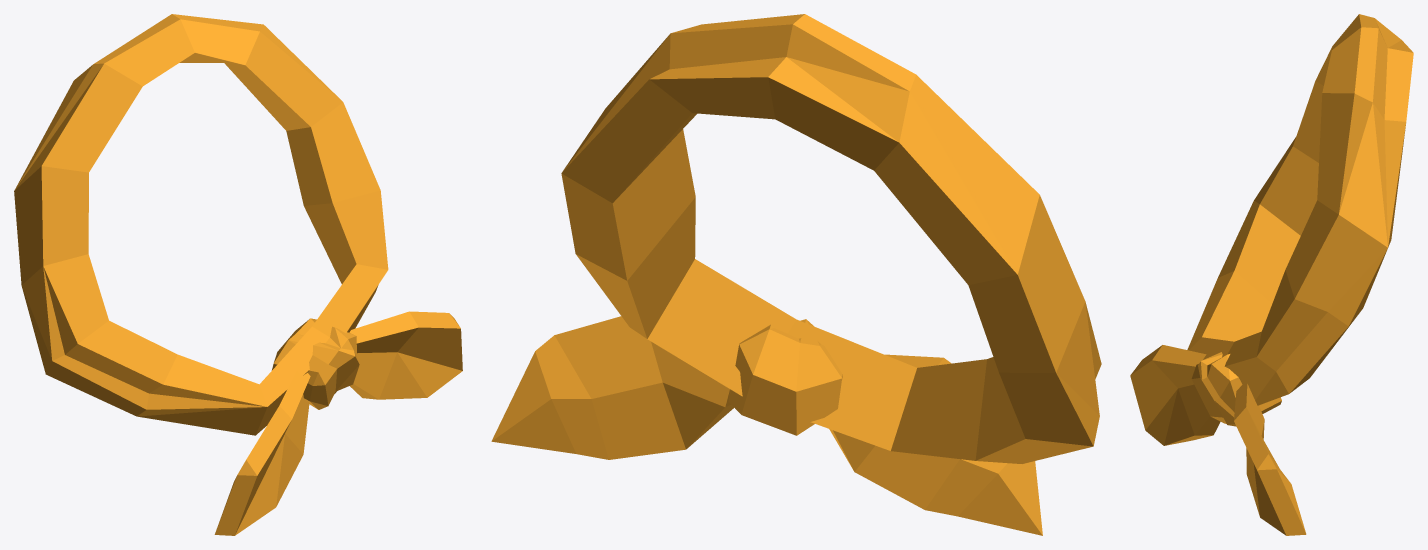
The model's file is SM_Collar_Scarf.fbx.
3 renders of one model, left to right at view 1: azimuth 30°, elevation 25°; view 2: azimuth 150°, elevation 25°; view 3: azimuth 270°, elevation 25°, orthographic. The views are drawn at different scales.
Parts seen in each view (by area): view 1: SM_Collar_Scarf; view 2: SM_Collar_Scarf; view 3: SM_Collar_Scarf.
Part boxes in pixels (x1,y1,x2,y2): SM_Collar_Scarf: (14, 14, 462, 535); SM_Collar_Scarf: (491, 14, 1101, 535); SM_Collar_Scarf: (1130, 14, 1413, 535).
Size of the model in its own units: 0.1023 by 0.0997 by 0.0597.
